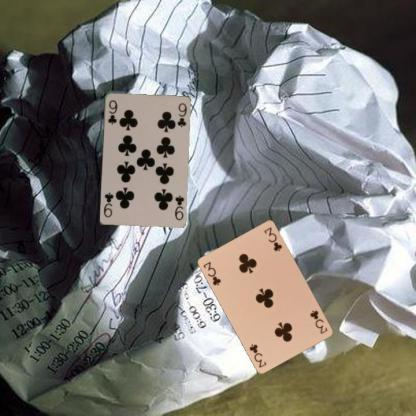3c: (201, 259, 223, 287), (307, 308, 329, 335)
9c: (172, 192, 185, 222), (105, 97, 118, 125)
